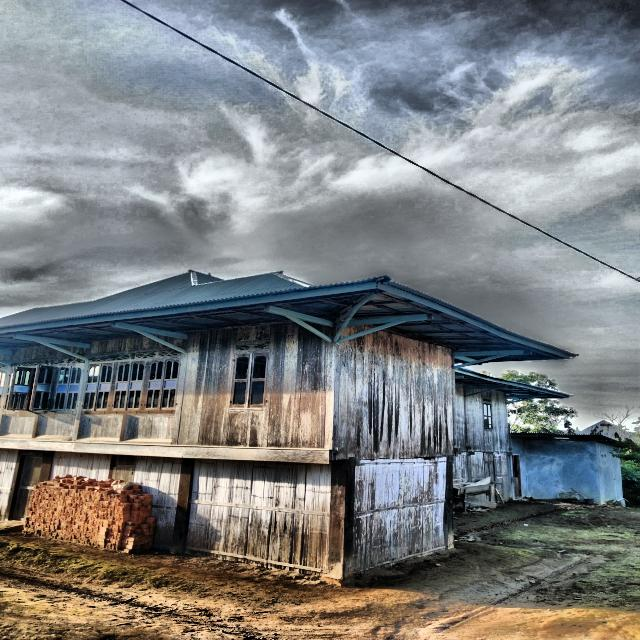column: (327, 459, 360, 580), (172, 458, 195, 553), (39, 451, 54, 483)
door: (13, 456, 43, 521)
ornamen: (122, 414, 174, 442), (76, 414, 123, 441), (35, 414, 76, 439), (0, 414, 36, 438)
roof: (0, 272, 574, 365), (456, 367, 572, 401), (510, 432, 615, 444)
wall: (177, 321, 327, 449), (184, 458, 330, 576), (337, 330, 454, 459), (76, 337, 181, 445), (354, 457, 447, 573), (0, 346, 84, 441), (133, 456, 182, 551), (455, 382, 511, 451), (49, 451, 112, 481), (0, 448, 19, 521)
window: (6, 365, 55, 411), (230, 352, 268, 408), (143, 358, 180, 410), (112, 361, 146, 411), (81, 363, 114, 411), (52, 365, 84, 411), (483, 403, 493, 430)
